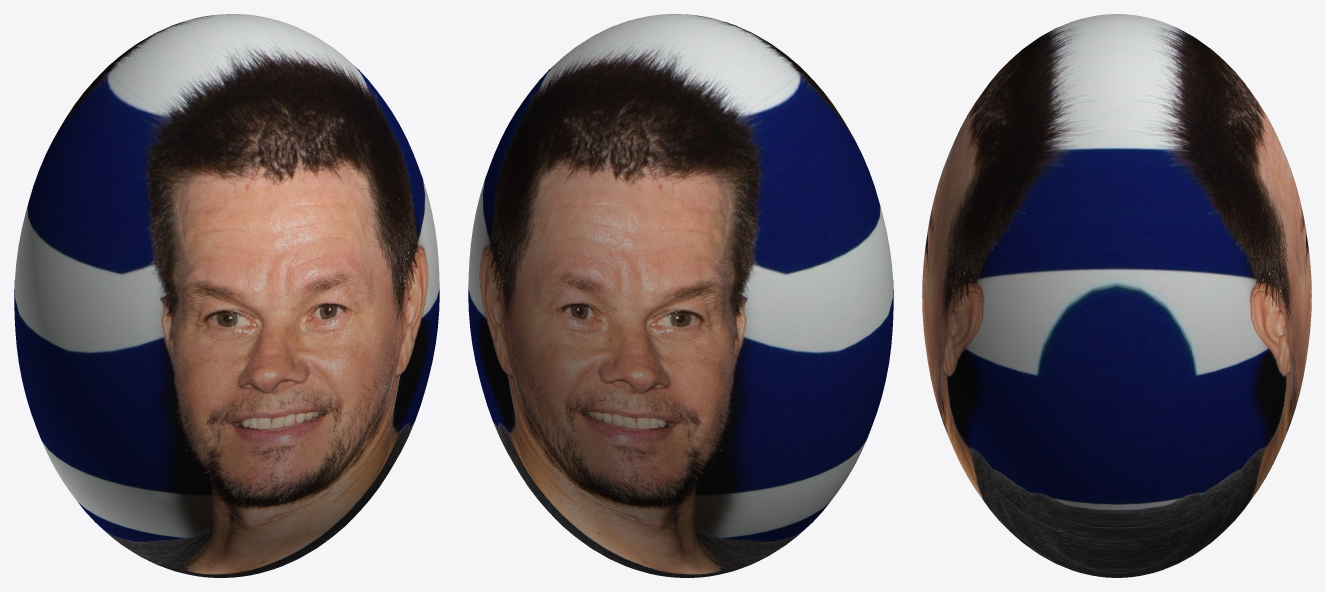
3 renders of one model, left to right at view 1: azimuth 30°, elevation 25°; view 2: azimuth 150°, elevation 25°; view 3: azimuth 270°, elevation 25°, orthographic.
Visible parts, largest first — view 1: head; view 2: head; view 3: head.
Boxes of the visible parts, <box> form: head: <box>14,14,439,577</box>; head: <box>468,14,893,577</box>; head: <box>922,14,1311,577</box>.
Bounding box in the file's own units: 1.47 × 2 × 1.32.
Materials: 1 (1 with a texture image).
